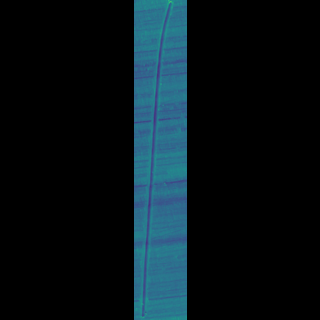Loch: (156, 0, 162, 315)
